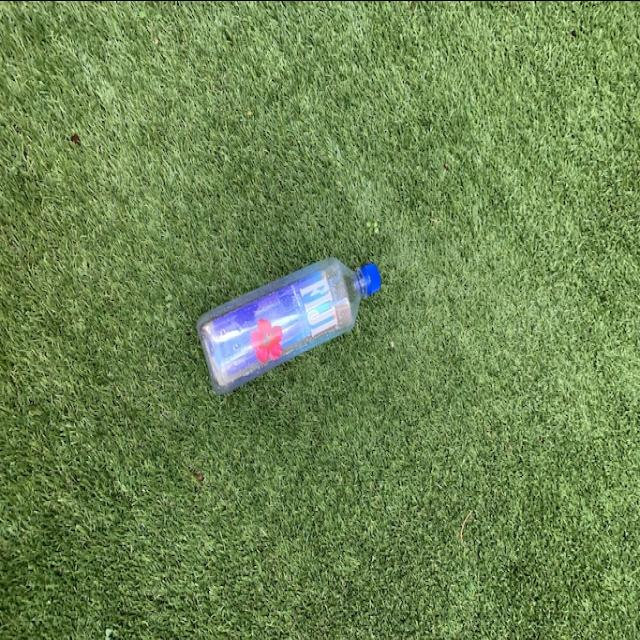litter: (196, 254, 384, 394)
